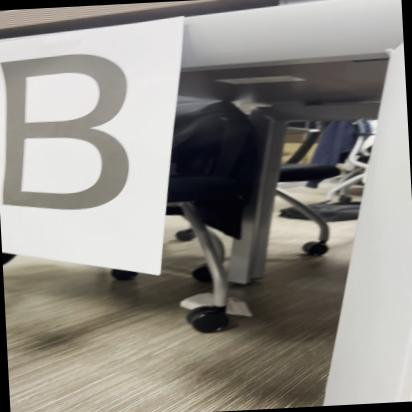seat: (0, 46, 150, 228)
